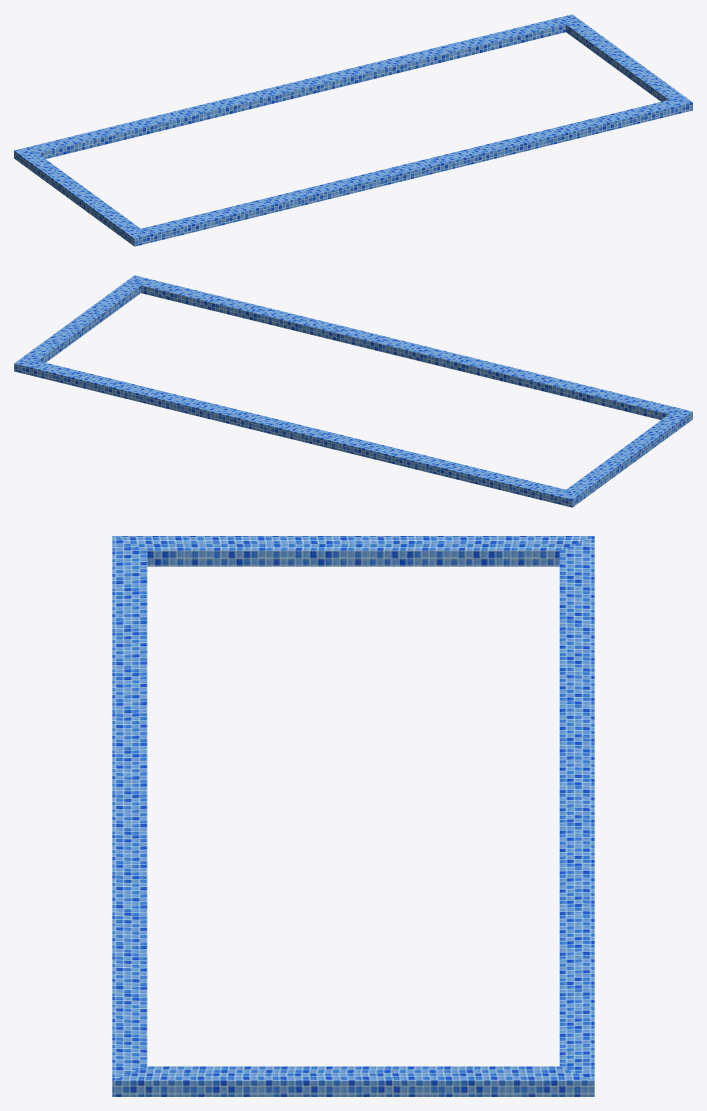
Rendered from be_boi_2.glb.
3 views of the same model, one above another, from view 1: azimuth 30°, elevation 25°; view 2: azimuth 150°, elevation 25°; view 3: azimuth 270°, elevation 25° (orthographic). The views are drawn at different scales.
Visible parts, largest first — view 1: Plane001; view 2: Plane001; view 3: Plane001.
Part boxes in pixels (x1,y1,x2,y2): Plane001: (14,14,692,246); Plane001: (14,275,692,507); Plane001: (112,536,594,1096).
Bounding box in the file's own units: 37 × 0.5 × 13.84.
1 material, 1 textured.
